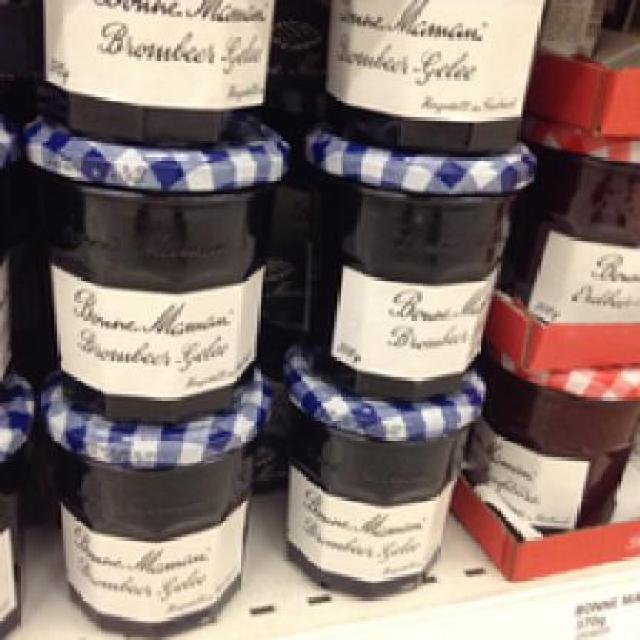Jam: (20, 114, 289, 420), (297, 123, 537, 400), (37, 380, 274, 637), (277, 346, 486, 594), (468, 352, 638, 532)
